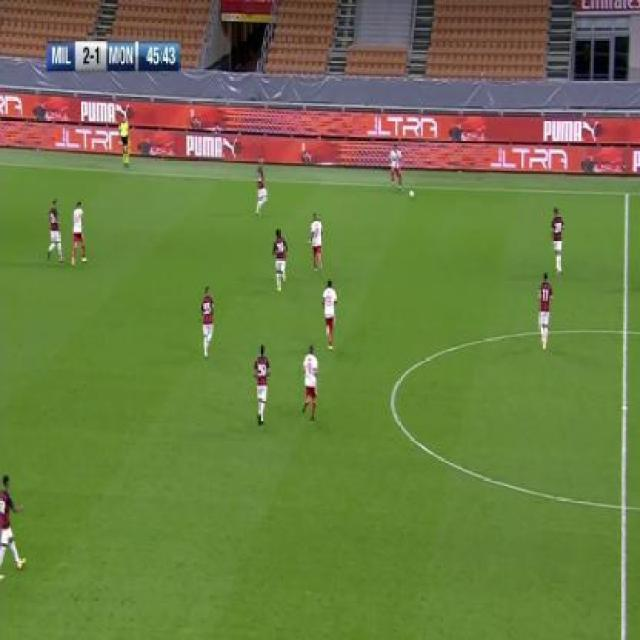ball: (409, 187, 417, 200)
player: (0, 473, 26, 572), (252, 343, 271, 426), (299, 344, 319, 420), (536, 271, 553, 350), (322, 277, 339, 351), (46, 201, 65, 264), (305, 212, 324, 274), (200, 286, 216, 359), (70, 199, 87, 264), (549, 206, 565, 272), (272, 226, 288, 292), (388, 140, 404, 196), (255, 157, 269, 219), (118, 113, 131, 170)
